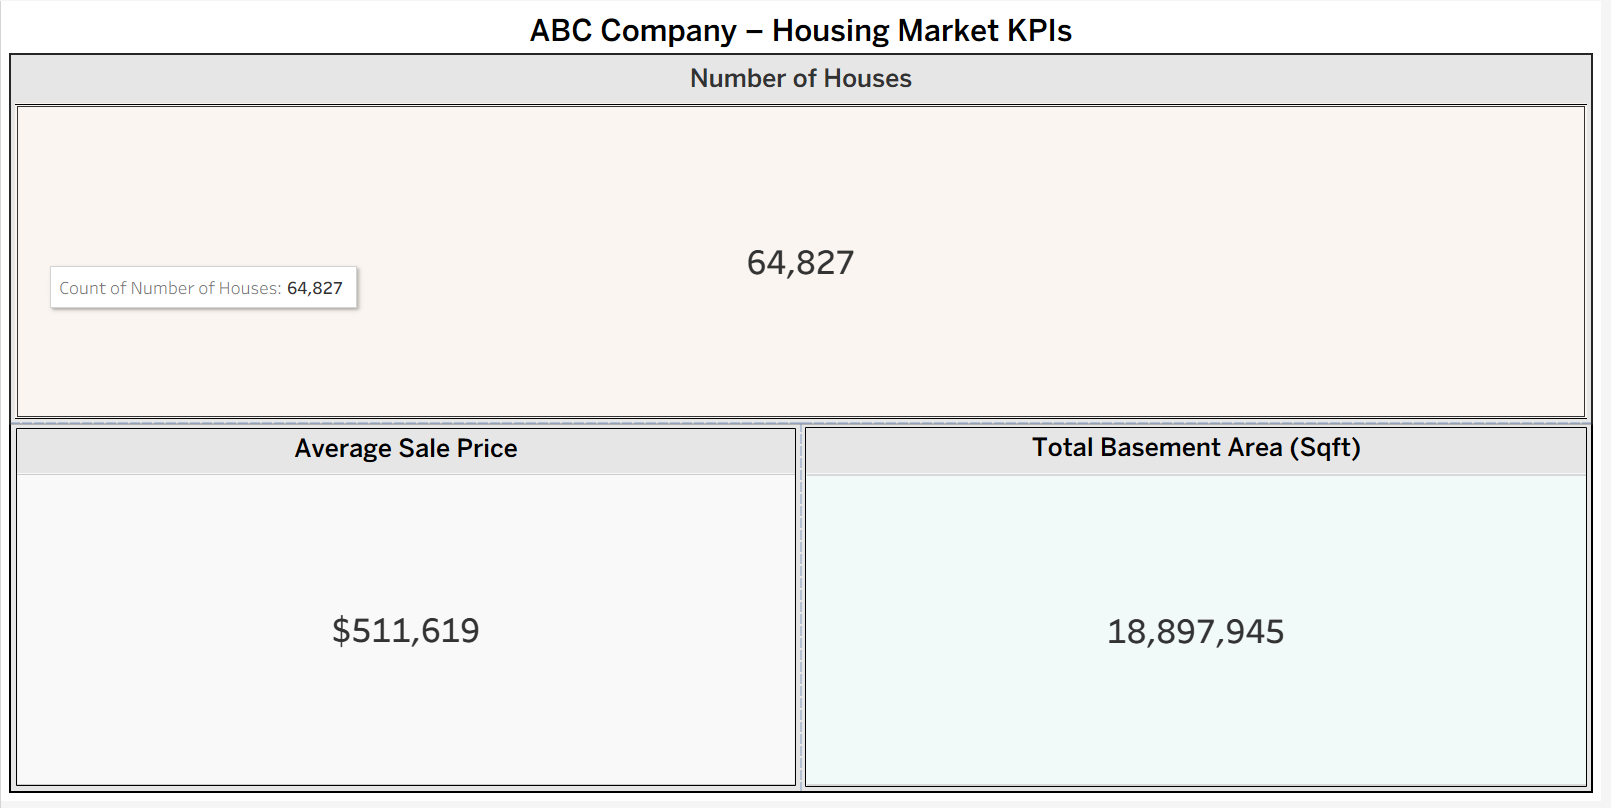

Layout of this report page (visuals, bound fields, positions):
{"tool":"tableau","page":{"name":"Dashboard 1","canvas":[1600,800],"ordinal":0},"visuals":[{"type":"title","box":[8,8,1584,44]},{"type":"worksheet","title":"Sheet 5","mark":"Automatic","box":[10,54,1580,368]},{"type":"worksheet","title":"Sheet 6","mark":"Automatic","box":[10,422,790,368]},{"type":"worksheet","title":"Sheet 7","mark":"Automatic","box":[800,422,790,368]}]}

Visuals, with their boxes in screenshot pixels (x1, y1, x2, y2), scaled from the page's 1600x800 canvas onto the 1611x808 screenshot:
title: bbox=[8, 8, 1603, 53]
"Sheet 5" worksheet: bbox=[10, 55, 1601, 426]
"Sheet 6" worksheet: bbox=[10, 426, 806, 798]
"Sheet 7" worksheet: bbox=[806, 426, 1601, 798]
